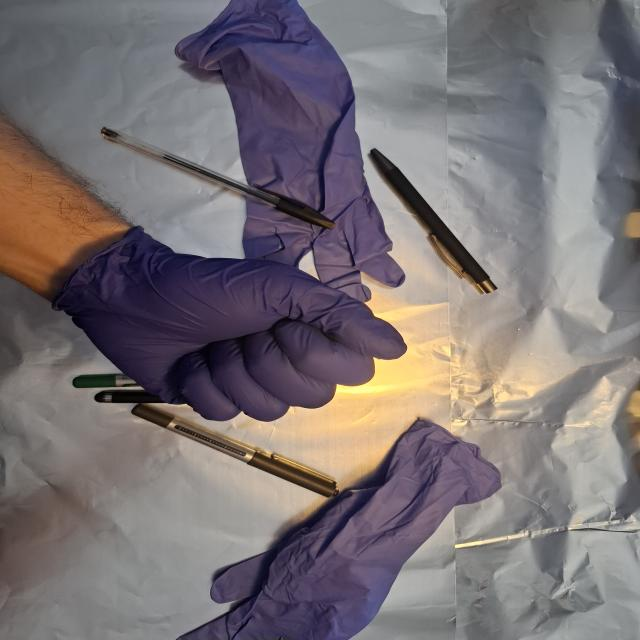glove_on: (51, 228, 412, 425)
